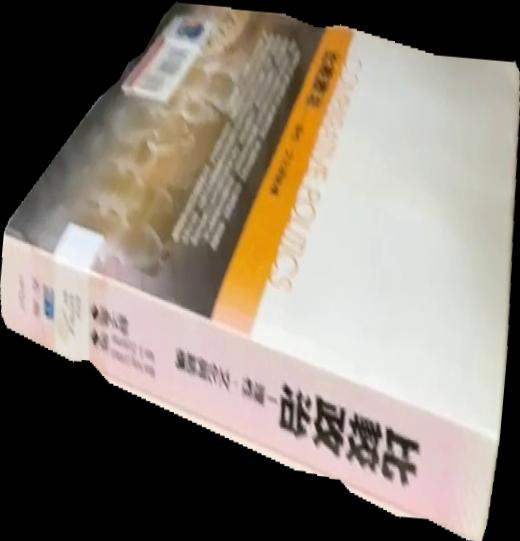flat: (1, 1, 520, 541)
